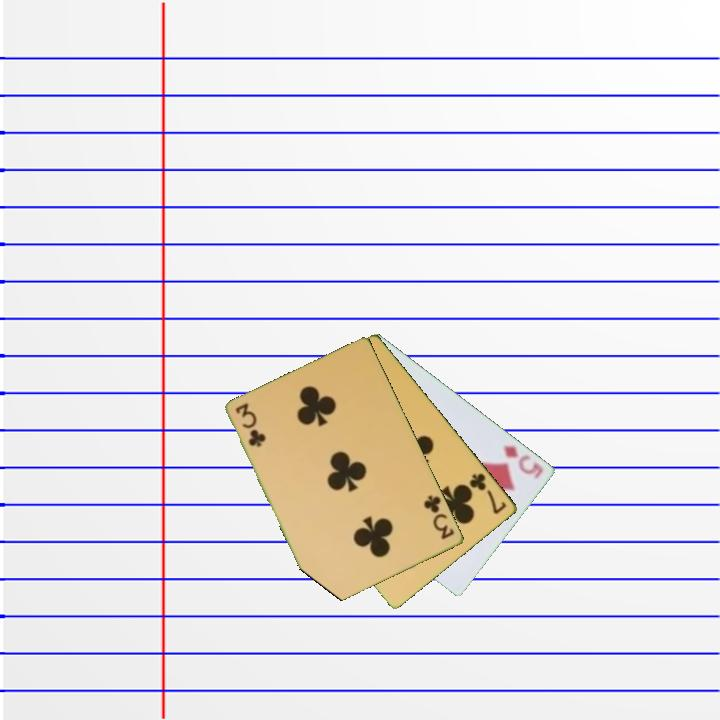3c: (420, 492, 458, 542), (232, 400, 267, 450)
5d: (500, 441, 546, 482)
7c: (466, 470, 510, 517)
